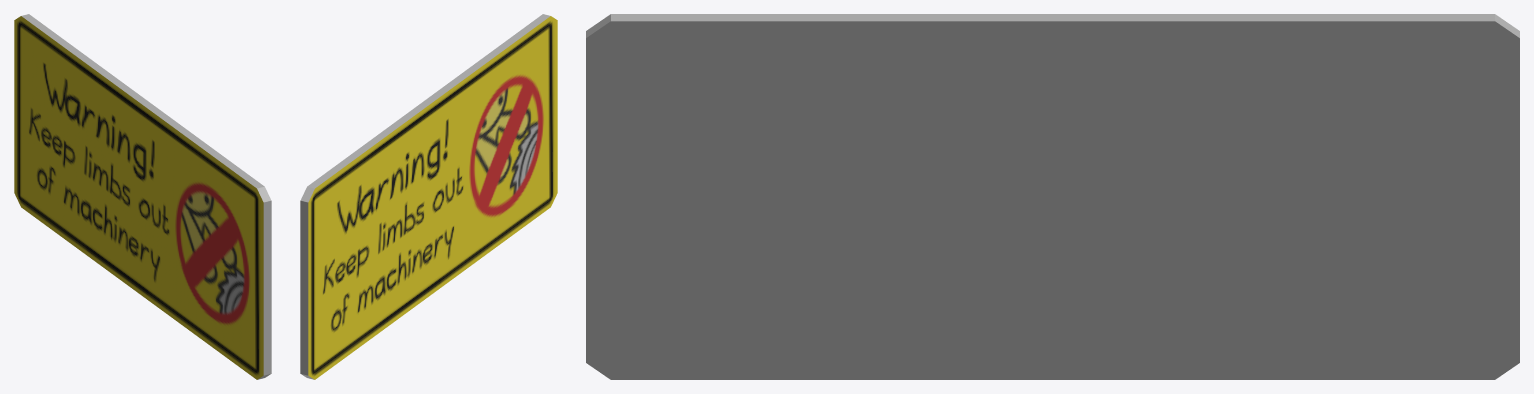
Rendered from Machinery Warning Sign.fbx.
3 views of the same model, side by side, from view 1: azimuth 30°, elevation 25°; view 2: azimuth 150°, elevation 25°; view 3: azimuth 270°, elevation 25° (orthographic). The views are drawn at different scales.
Visible parts, largest first — view 1: Machinery Warning Sign; view 2: Machinery Warning Sign; view 3: Machinery Warning Sign.
Part boxes in pixels (left/top/right/bottom): Machinery Warning Sign: left=14, top=14, right=271, bottom=379; Machinery Warning Sign: left=300, top=14, right=557, bottom=379; Machinery Warning Sign: left=586, top=14, right=1519, bottom=379.
Size of the model in its own units: 0.0574 by 1.33 by 3.13.
